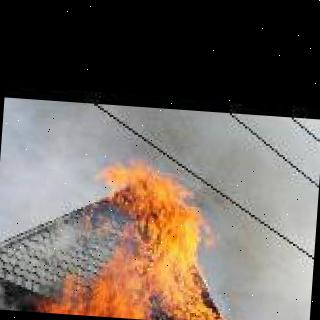fire: (35, 148, 264, 320)
